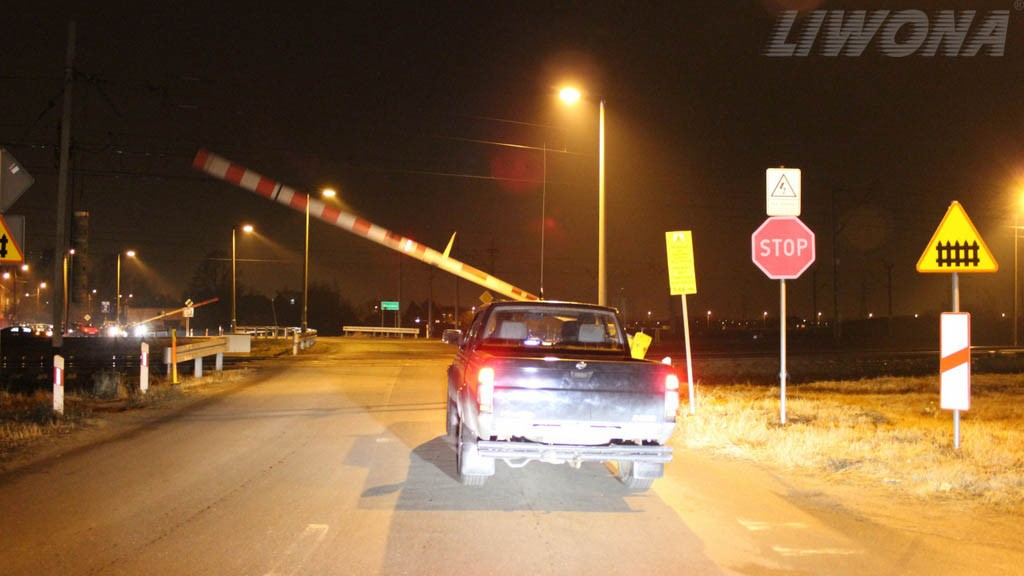a9: (933, 239, 984, 270)
